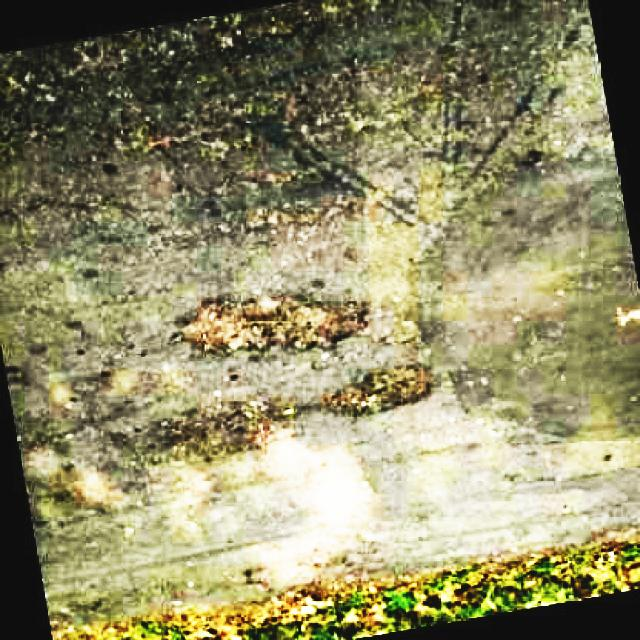pothole: (171, 289, 366, 357), (326, 358, 437, 420)
